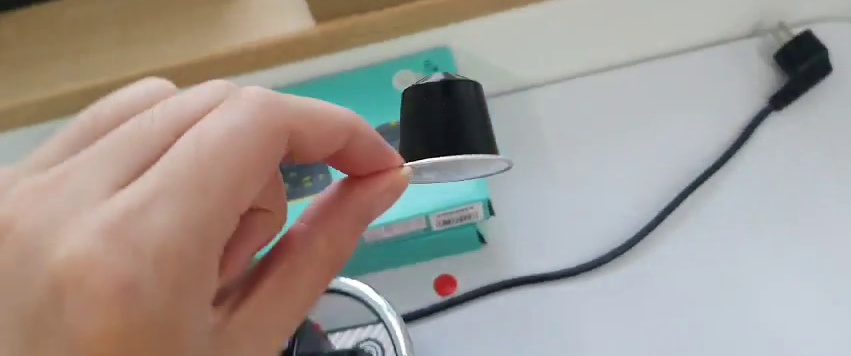capsule_10: (388, 68, 512, 183)
